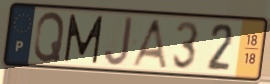2: (205, 22, 235, 74)
3: (171, 20, 202, 71)
A: (128, 17, 169, 71)
J: (102, 15, 134, 68)
M: (62, 12, 105, 66)
Q: (32, 10, 67, 64)
